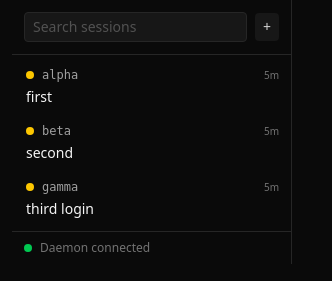
it: Sidebar › filters the list as the user types in the search box
Check: the button with test id "sidebar-item-alpha" is shown, box [12,59,291,115]
Type "login" into the search field labelled "Search sessions".
click(136, 27); type("login")  # box [24,12,247,42]
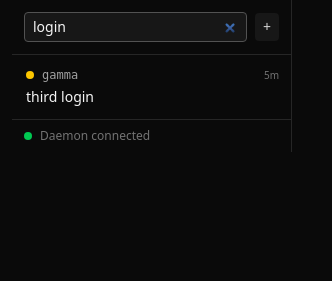
Check: the button with test id "sidebar-item-gamma" is shown, box [12,59,291,115]
Check: the button with test id "sidebar-item-alpha" is gone
Check: the button with test id "sidebar-item-beta" is gone
